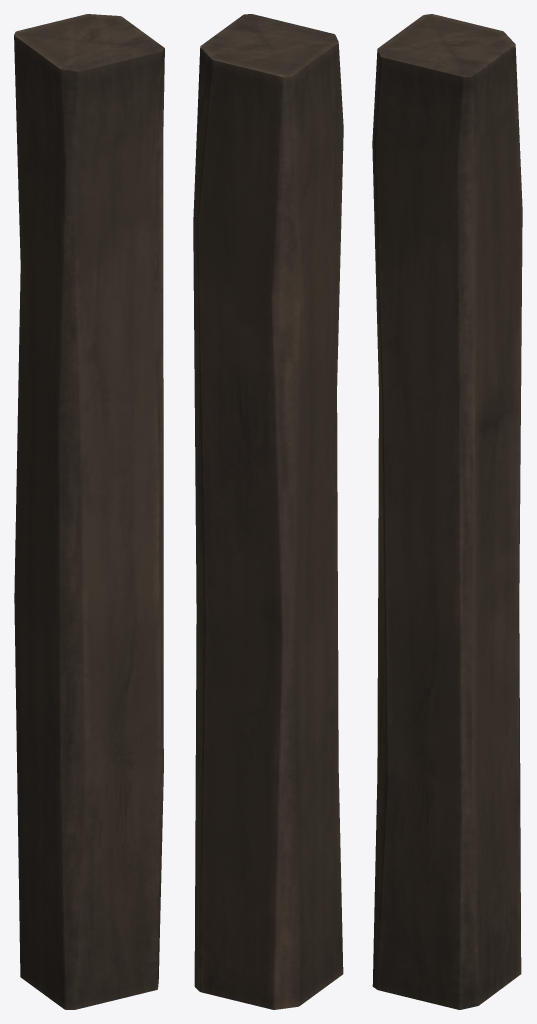
The model's file is pillar1.fbx.
3 views of the same model, side by side, from view 1: azimuth 30°, elevation 25°; view 2: azimuth 150°, elevation 25°; view 3: azimuth 330°, elevation 25° (orthographic).
Parts seen in each view (by area): view 1: pillar_1_original.001; view 2: pillar_1_original.001; view 3: pillar_1_original.001.
Part boxes in pixels (left/top/right/bottom): pillar_1_original.001: left=14, top=14, right=164, bottom=1009; pillar_1_original.001: left=193, top=14, right=343, bottom=1009; pillar_1_original.001: left=372, top=14, right=522, bottom=1009.
Size of the model in its own units: 29.62 by 29.94 by 268.
1 material, 1 textured.
